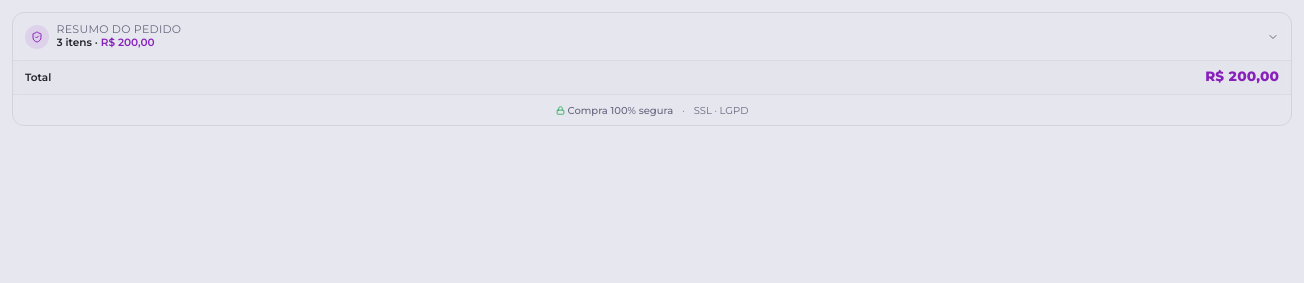
Test case: PaymentOrderSummary › shows "Grátis" when shippingCost = 0
The image size is (1304, 283).
Click the button "Resumo do pedido 3 itens · R$ 200,00" at (119, 28), box [13,13,1291,60]
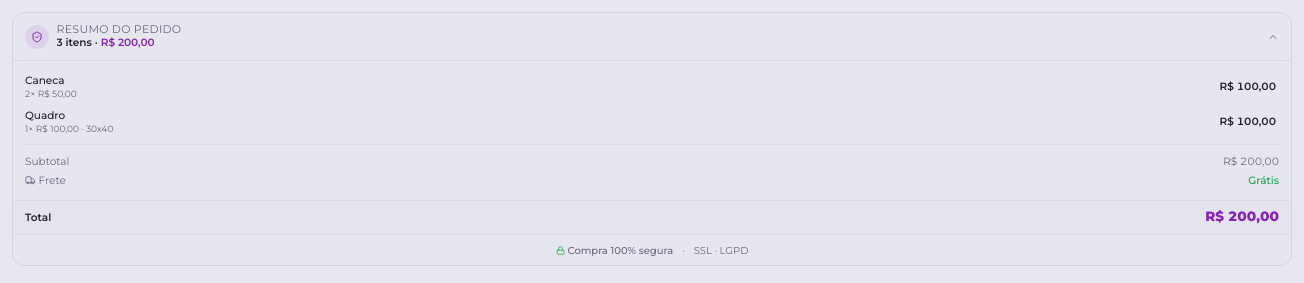
Check: the text "Grátis" is shown, box [1248,174,1279,187]
